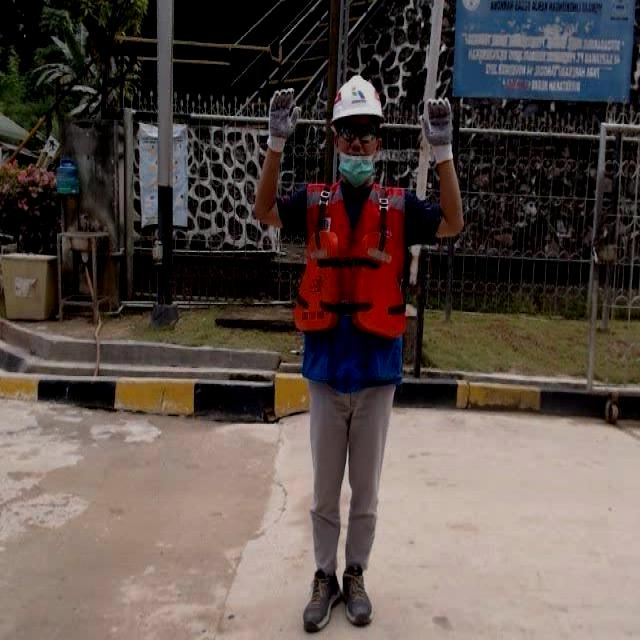vest: (293, 182, 406, 385)
